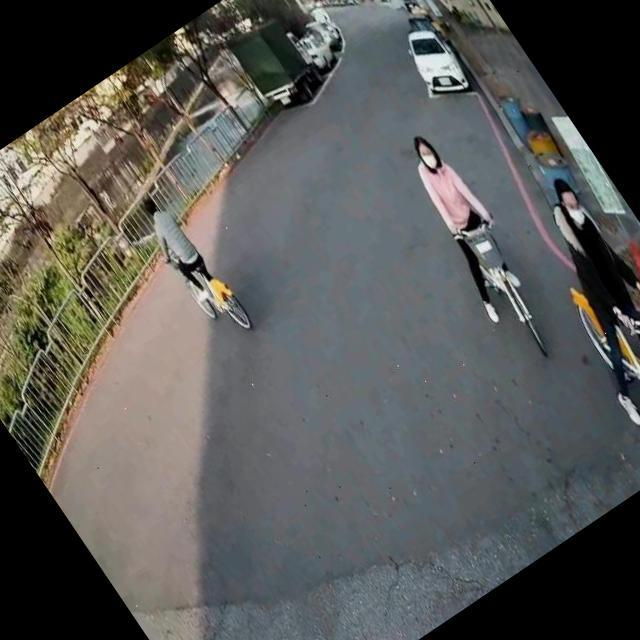person: (490, 163, 640, 437), (380, 123, 550, 331), (128, 183, 230, 310)
